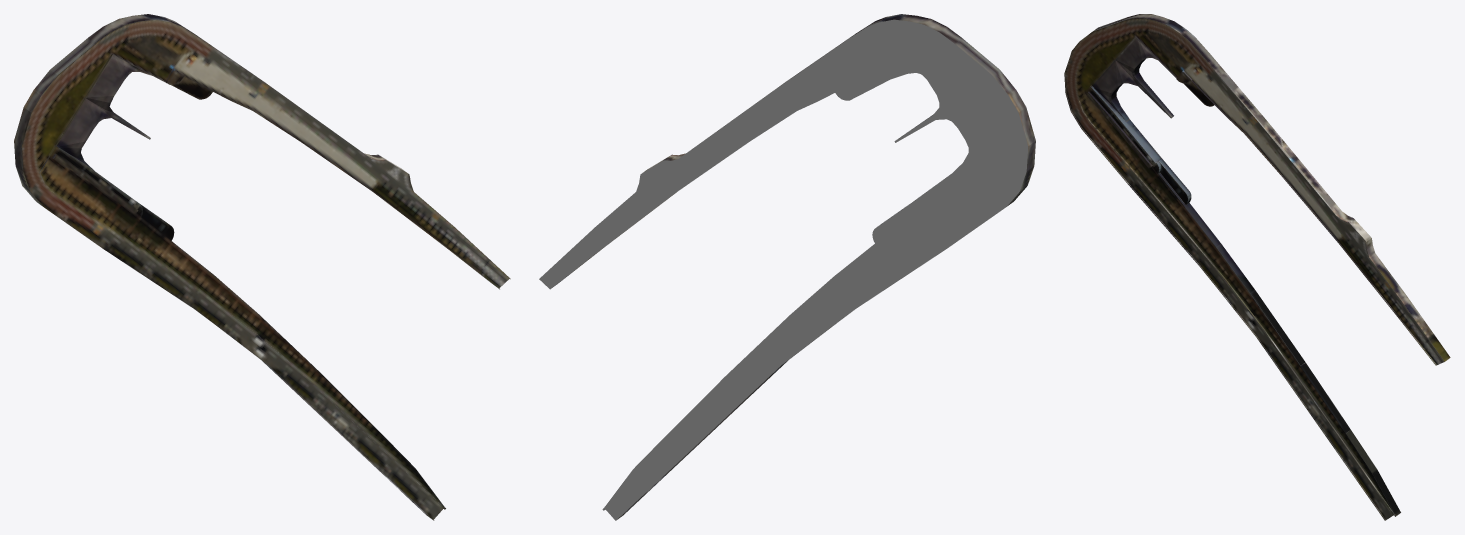
File: 53392672_brid_6677.obj
3 views of the same model, side by side, from view 1: azimuth 30°, elevation 25°; view 2: azimuth 150°, elevation 25°; view 3: azimuth 330°, elevation 25° (orthographic). The views are drawn at different scales.
Bounding box in the file's own units: 309 × 344 × 11.09.
Materials: 1 (1 with a texture image).
